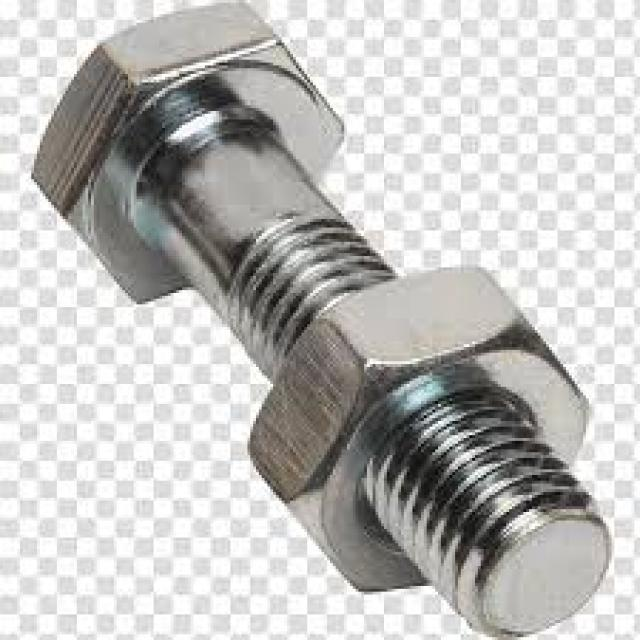bolt: (30, 3, 613, 634)
nut: (249, 272, 599, 515)
